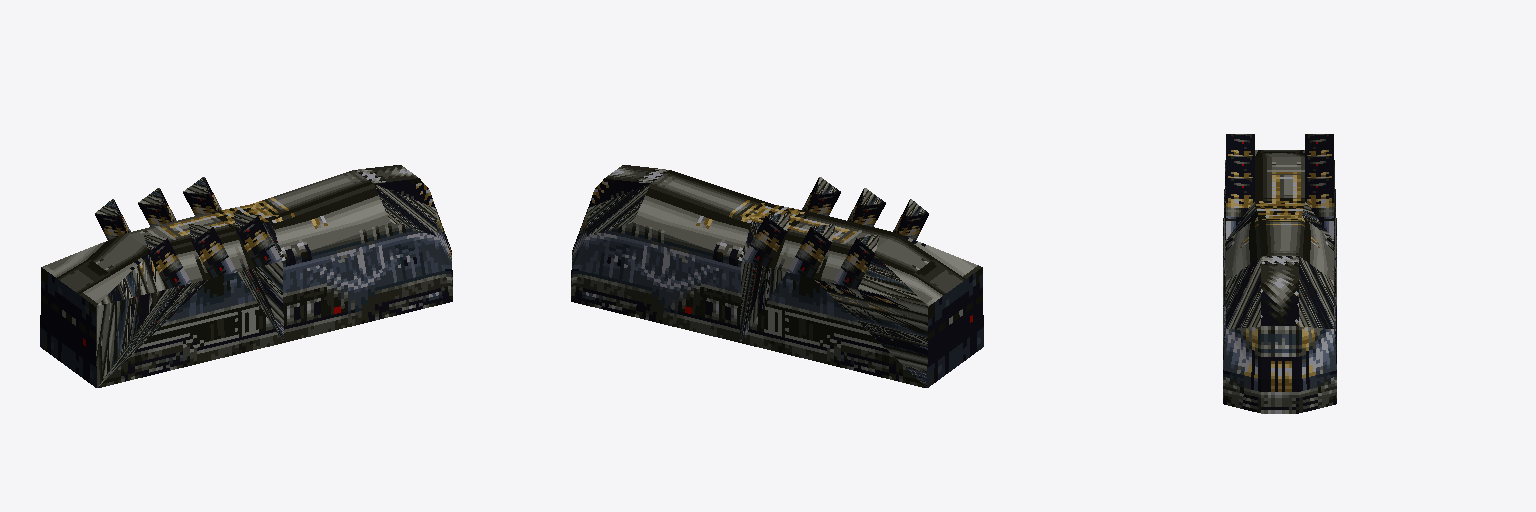
The picture shows the model from 3 angles: view 1: azimuth 30°, elevation 25°; view 2: azimuth 150°, elevation 25°; view 3: azimuth 270°, elevation 25°; orthographic projection.
Bounding box in the file's own units: 7.76 × 2.61 × 2.04.
1 materials, 1 textured.